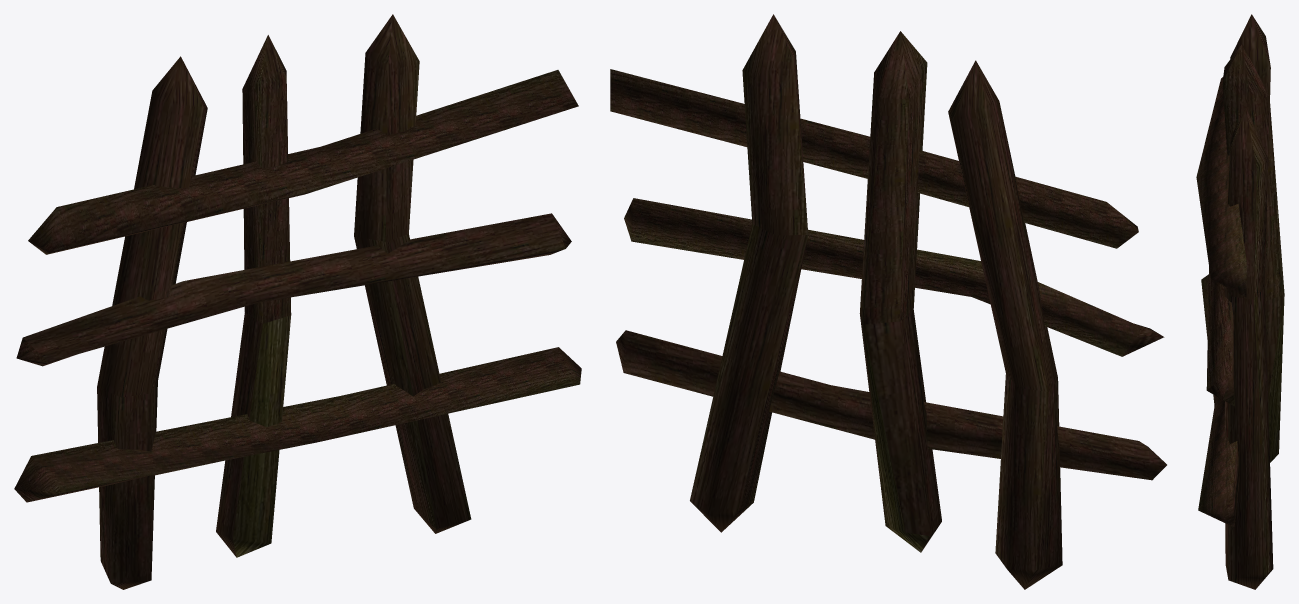
File: ORC_GATE_5X5M.glb
The picture shows the model from 3 angles, left to right: view 1: azimuth 30°, elevation 25°; view 2: azimuth 150°, elevation 25°; view 3: azimuth 270°, elevation 25°; orthographic projection. The views are drawn at different scales.
Parts seen in each view (by area): view 1: Mesh; view 2: Mesh; view 3: Mesh.
Boxes of the visible parts, x1=… form: Mesh: x1=14, y1=14, x2=581, y2=589; Mesh: x1=610, y1=14, x2=1166, y2=589; Mesh: x1=1196, y1=14, x2=1284, y2=589.
Bounding box in the file's own units: 4.77 × 4.42 × 0.7476.
Materials: 1 (1 with a texture image).
